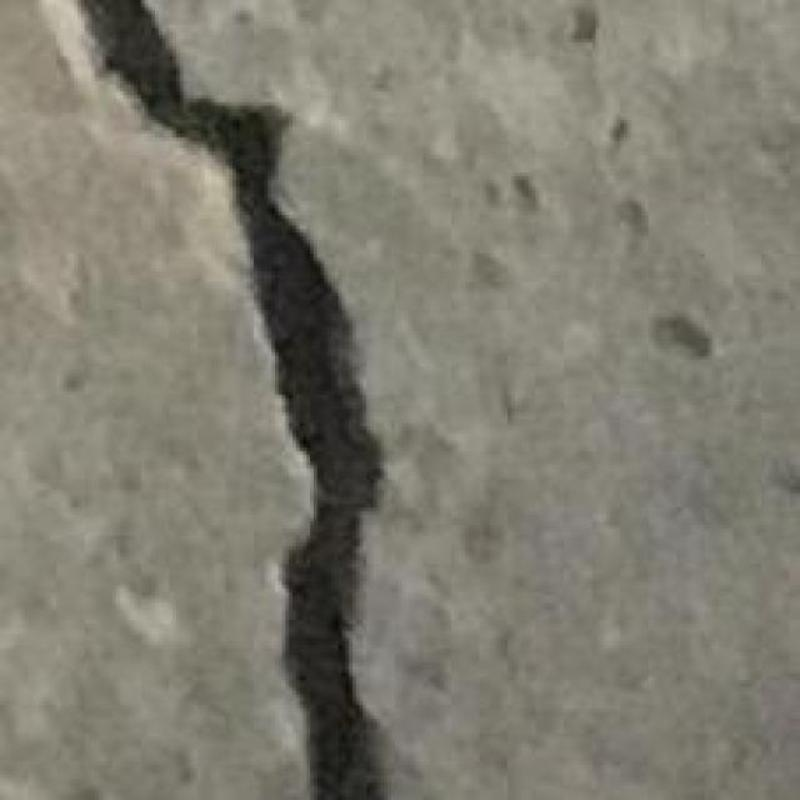pothole: (80, 0, 382, 799)
